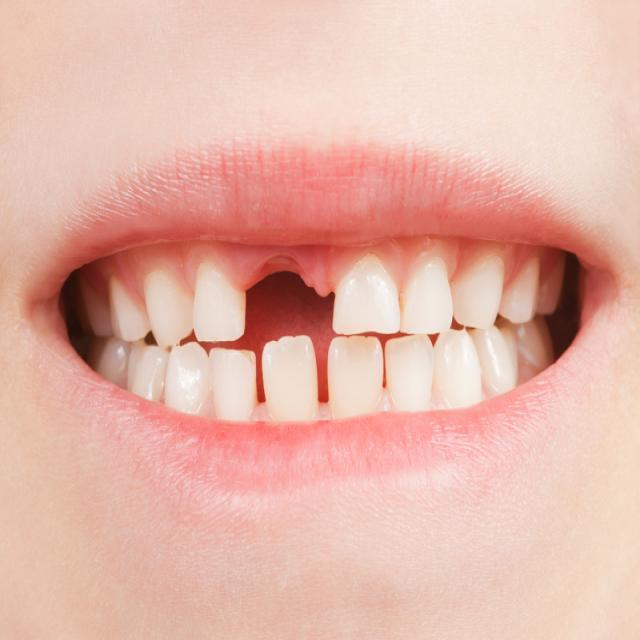Gap: (299, 346, 358, 410), (226, 355, 292, 412), (367, 340, 416, 395)
Missing: (185, 254, 404, 338)
